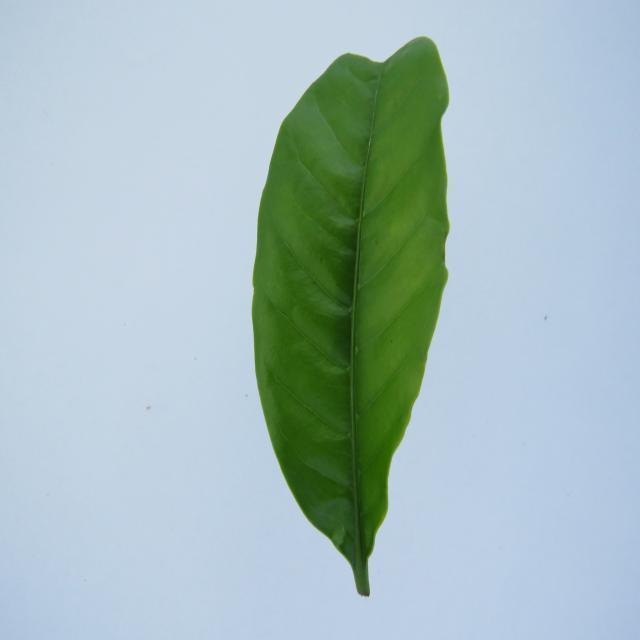DeficienciaNutricional-Boro: (252, 37, 449, 597)
